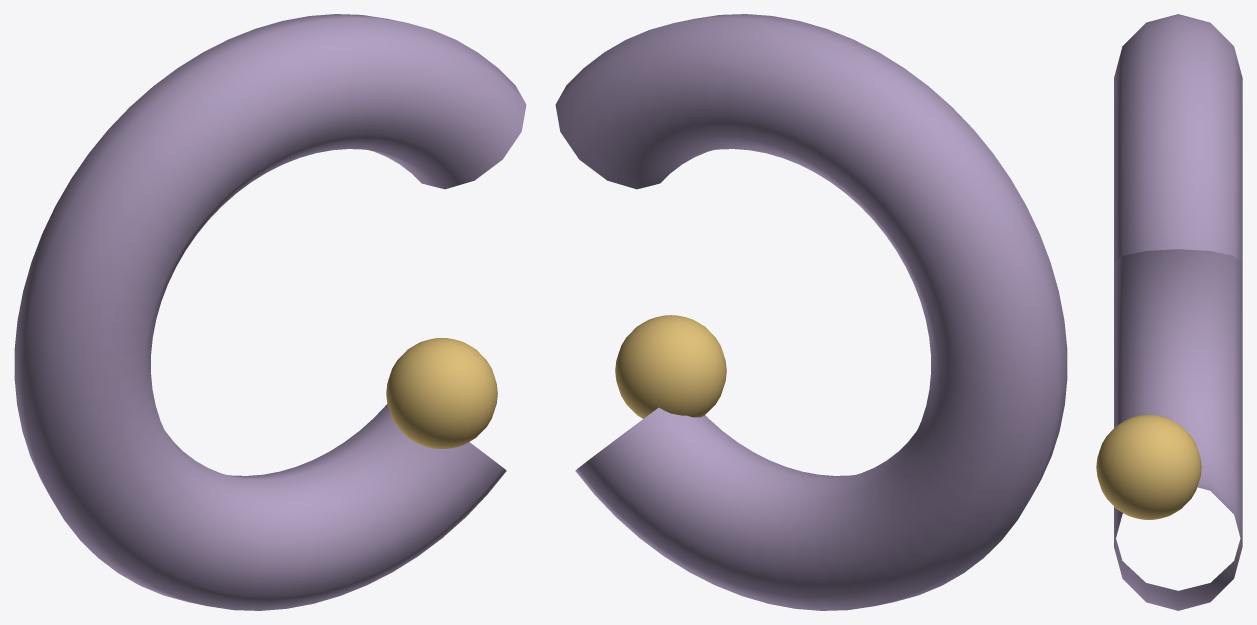
The model's file is moon.glb.
3 renders of one model, left to right at view 1: azimuth 30°, elevation 25°; view 2: azimuth 150°, elevation 25°; view 3: azimuth 270°, elevation 25°, orthographic. The views are drawn at different scales.
Bounding box in the file's own units: 0.9155 × 1.02 × 0.25.
